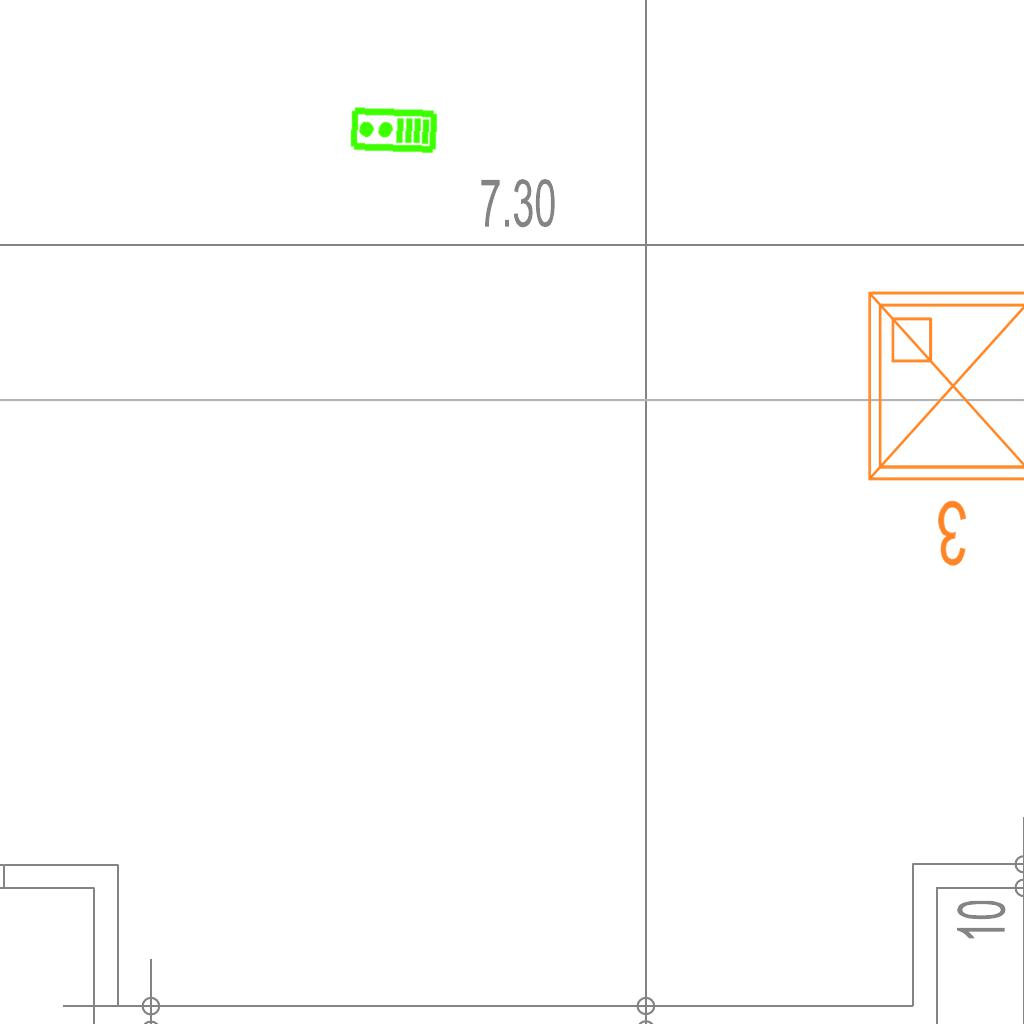Einbaudownlights_LED_Konferenzraeume: (853, 277, 1024, 577)
Gegensprechanlage_mit_Video: (348, 105, 439, 157)
